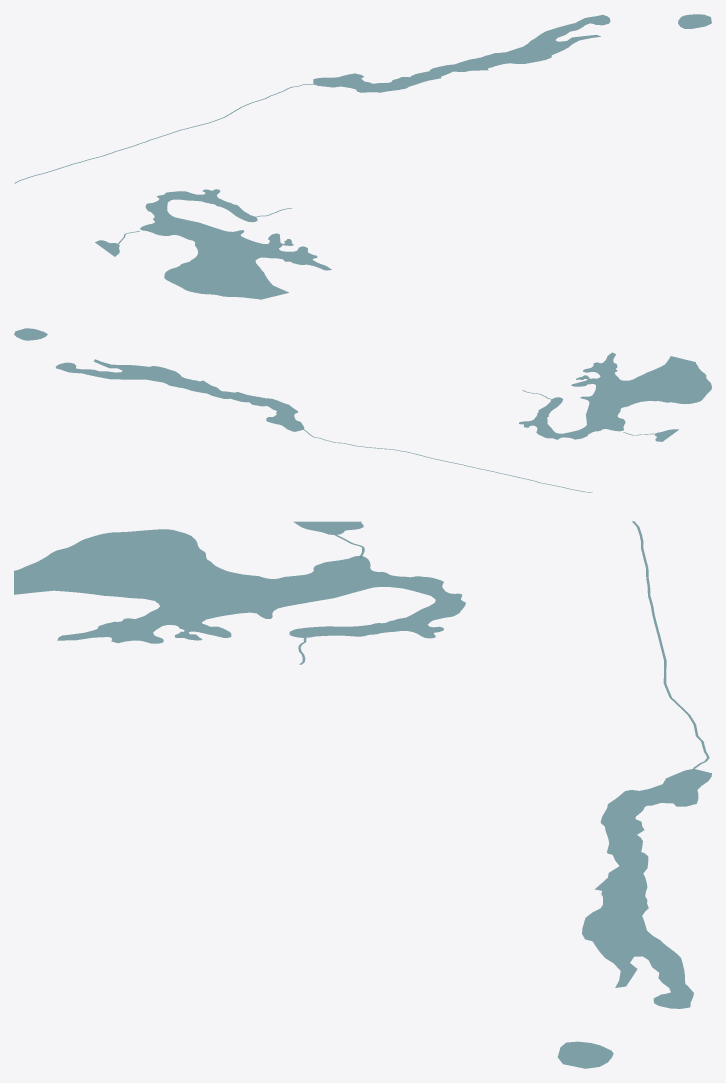
File: reed_water.glb
3 views of the same model, one above another, from view 1: azimuth 30°, elevation 25°; view 2: azimuth 150°, elevation 25°; view 3: azimuth 270°, elevation 25° (orthographic). The views are drawn at different scales.
Visible parts, largest first — view 1: W_way_133795911, W_way_39516063; view 2: W_way_133795911, W_way_39516063, W_way_192115603; view 3: W_way_133795911, W_way_39516063, W_way_192115603.
Part boxes in pixels (box(x1,y1,x2,y2)): W_way_133795911: box(140, 189, 331, 299); W_way_39516063: box(313, 14, 610, 92); W_way_133795911: box(519, 352, 711, 439); W_way_39516063: box(55, 359, 304, 431); W_way_192115603: box(14, 328, 47, 340); W_way_133795911: box(14, 529, 465, 643); W_way_39516063: box(582, 768, 711, 1008); W_way_192115603: box(557, 1041, 613, 1068).
Bounding box in the file's own units: 1056 × 15.14 × 552.
